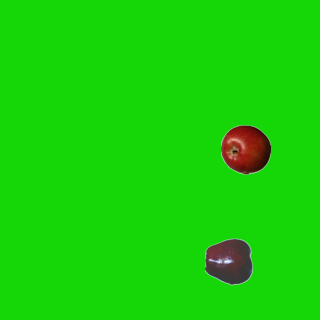Apple Braeburn: (220, 124, 270, 174)
Apple Red Delicious: (204, 236, 254, 286)
